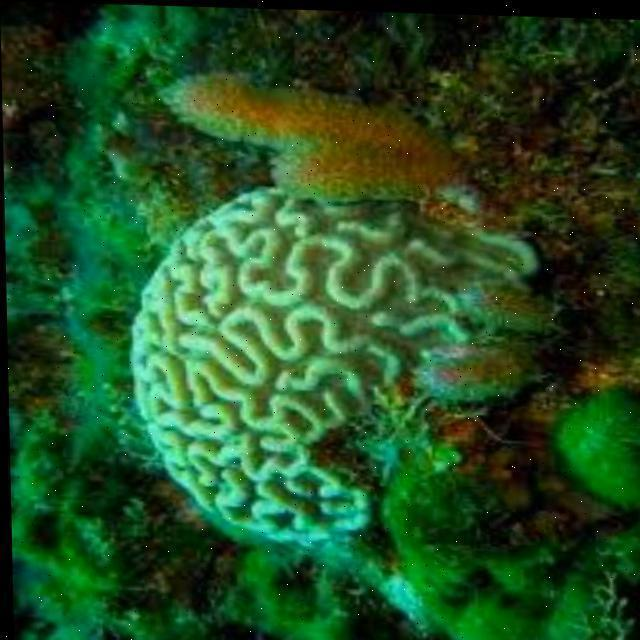Healthy Coral: (107, 132, 563, 600)
